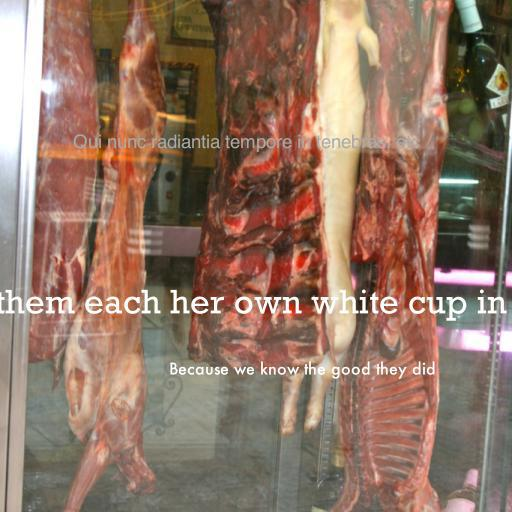Big Caslon: (72, 134, 420, 152)
Futura: (168, 361, 436, 379)
Rockwell: (0, 289, 512, 322)
